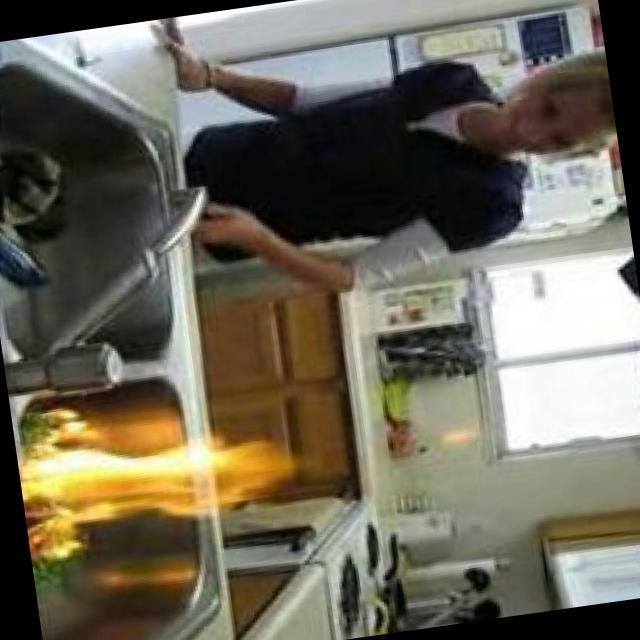Fire: (14, 393, 305, 565)
